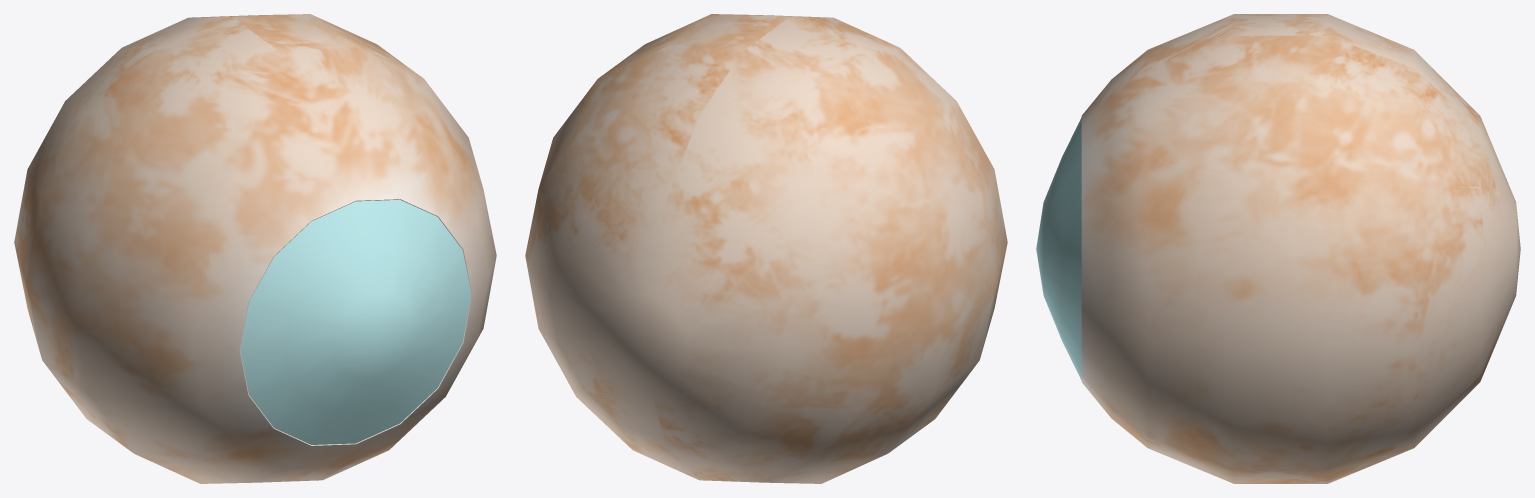
The model's file is eyeball.fbx.
3 views of the same model, side by side, from view 1: azimuth 30°, elevation 25°; view 2: azimuth 150°, elevation 25°; view 3: azimuth 270°, elevation 25° (orthographic).
Visible parts, largest first — view 1: Eye_1, Eye_2; view 2: Eye_1; view 3: Eye_1, Eye_2.
Boxes of the visible parts, left/top/right/bottom form: Eye_1: left=14, top=14, right=496, bottom=483; Eye_2: left=240, top=199, right=471, bottom=444; Eye_1: left=525, top=14, right=1007, bottom=483; Eye_1: left=1081, top=14, right=1520, bottom=483; Eye_2: left=1036, top=117, right=1081, bottom=380.
Size of the model in its own units: 1.75 by 1.75 by 1.8.
